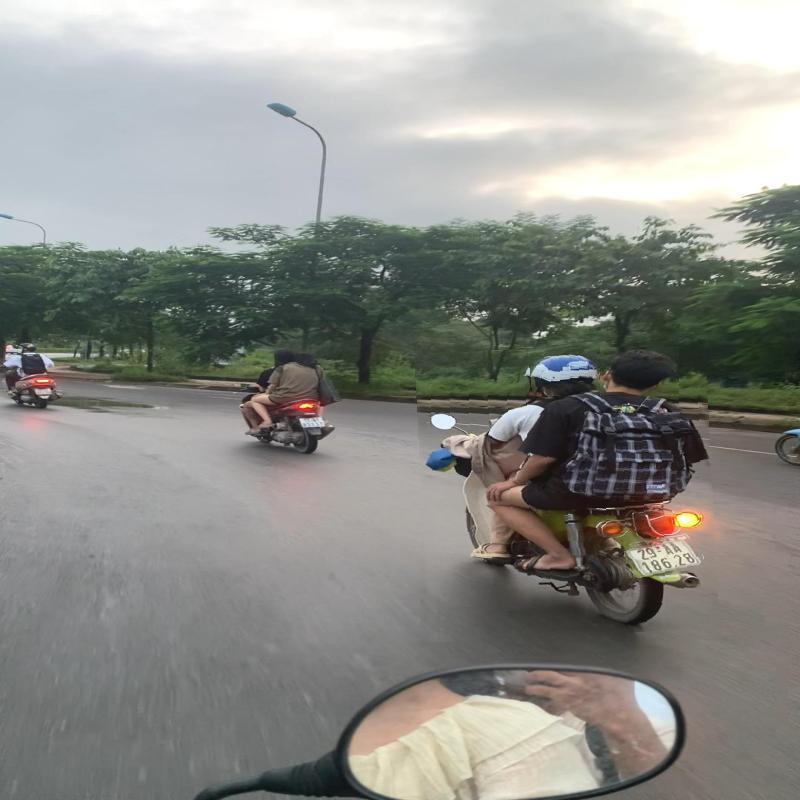helmet: (530, 354, 599, 396)
licenseplate: (624, 538, 702, 576)
motorcyclist: (418, 342, 716, 638)
nohelmet: (600, 347, 679, 396), (272, 348, 297, 364)
